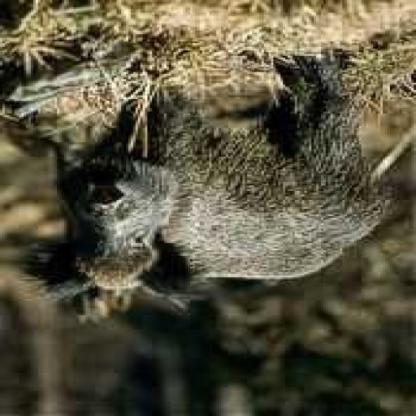boar: (48, 69, 415, 339)
